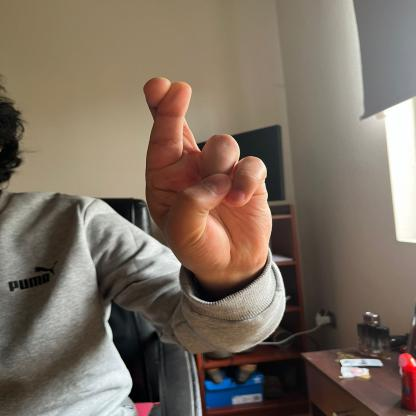R: (140, 74, 278, 272)
